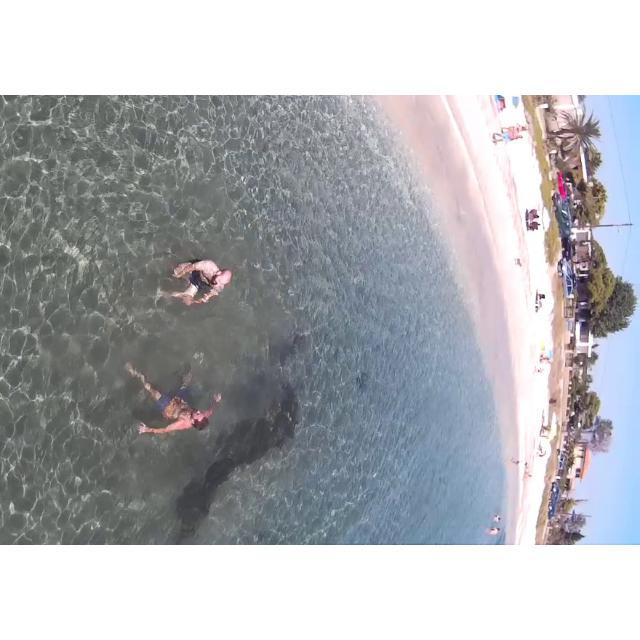human: (114, 354, 223, 447), (162, 248, 233, 326)
